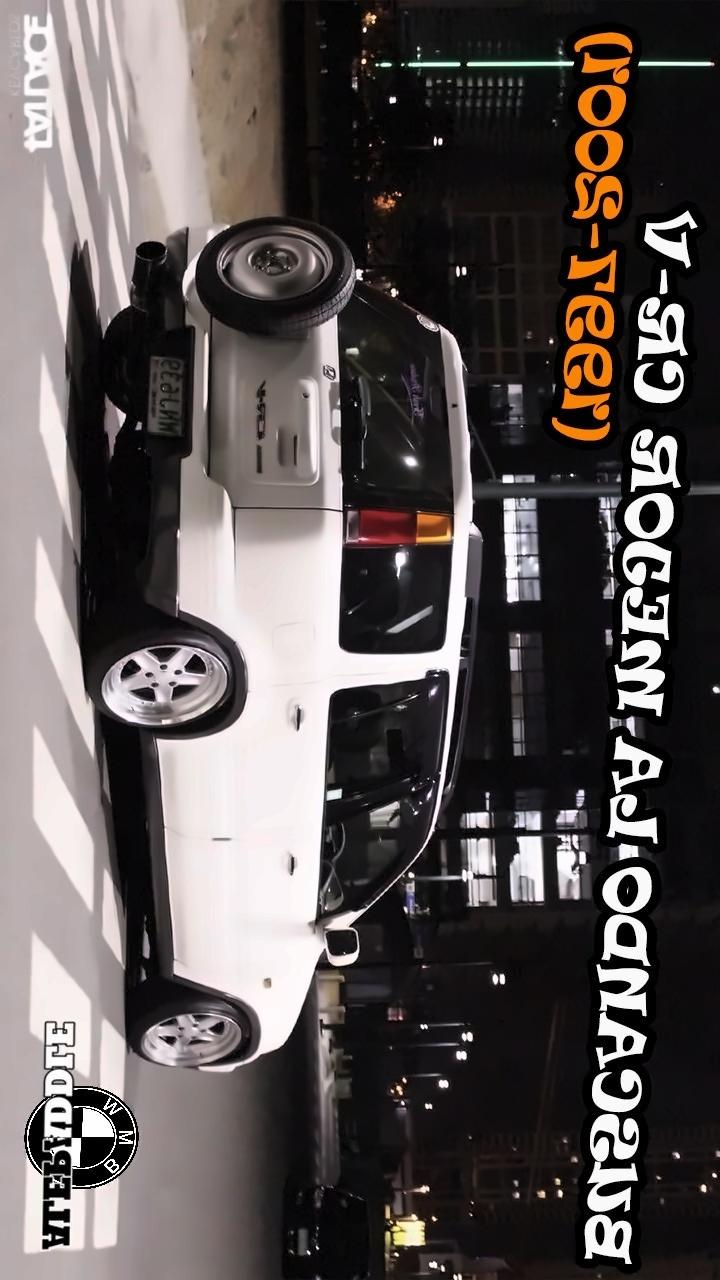Car boot: (204, 276, 476, 510)
Driver-s door - -F-R-: (153, 802, 438, 932)
Fender - -F-R-: (149, 933, 320, 1041)
Fender - -R-R-: (242, 509, 349, 688)
Front bumper: (169, 1040, 289, 1082)
Passenger-s door - -R-R-: (151, 685, 449, 837)
Rear bumper: (106, 213, 241, 659)
Rear light - -R-: (334, 494, 461, 551)
Side bumper - -R-: (131, 718, 178, 988)
Side mirror - -R-: (310, 918, 380, 979)
